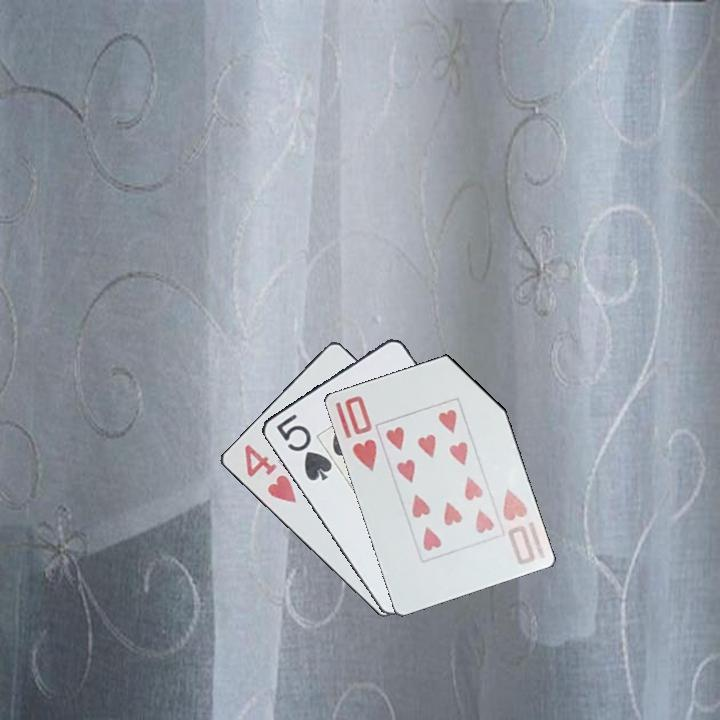4h: (240, 440, 299, 507)
5s: (272, 410, 335, 484)
Th: (499, 485, 548, 568), (341, 392, 379, 475)
